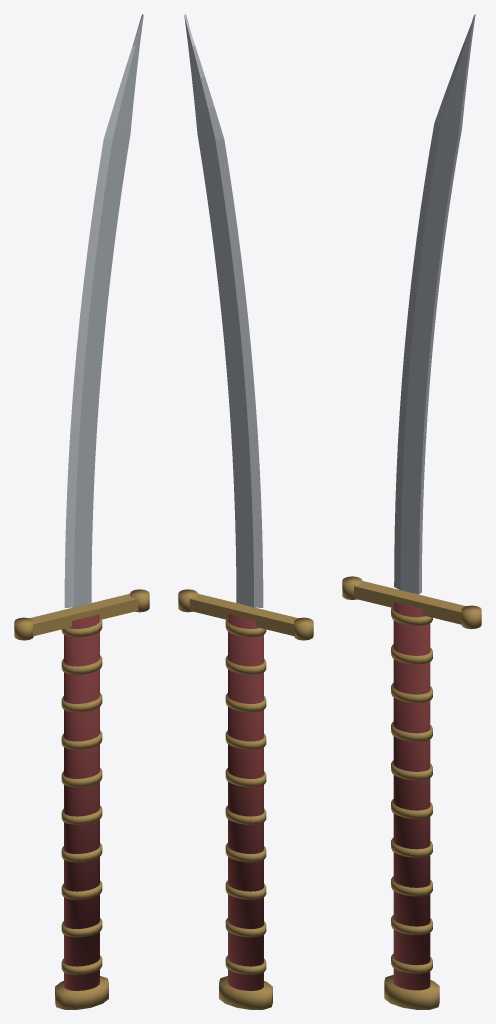
Rendered from katana-reed.fbx.
The picture shows the model from 3 angles, left to right: view 1: azimuth 30°, elevation 25°; view 2: azimuth 150°, elevation 25°; view 3: azimuth 330°, elevation 25°; orthographic projection. The views are drawn at different scales.
Parts seen in each view (by area): view 1: KatanaReedBlade, KatanaReedHandle, KatanaReedGuardBar, KatanaReedPommelCap, KatanaReedGuardCap-1, KatanaReedWrap00, KatanaReedWrap02, KatanaReedWrap06, KatanaReedWrap08, KatanaReedWrap01, KatanaReedWrap04, KatanaReedWrap03 (+3 smaller); view 2: KatanaReedBlade, KatanaReedHandle, KatanaReedGuardBar, KatanaReedPommelCap, KatanaReedGuardCap-1, KatanaReedWrap00, KatanaReedWrap02, KatanaReedWrap06, KatanaReedWrap08, KatanaReedWrap01, KatanaReedWrap04, KatanaReedWrap03 (+3 smaller); view 3: KatanaReedBlade, KatanaReedHandle, KatanaReedGuardBar, KatanaReedPommelCap, KatanaReedGuardCap1, KatanaReedWrap05, KatanaReedWrap08, KatanaReedWrap02, KatanaReedWrap00, KatanaReedWrap03, KatanaReedWrap06, KatanaReedWrap01 (+4 smaller).
Boxes of the visible parts, x1,y1,x2,y2 form: KatanaReedBlade: (64,14,143,607); KatanaReedHandle: (64,614,99,990); KatanaReedGuardBar: (30,593,138,636); KatanaReedPommelCap: (55,976,108,1009); KatanaReedGuardCap-1: (14,617,33,640); KatanaReedWrap00: (61,955,102,974); KatanaReedWrap02: (61,880,102,899); KatanaReedWrap06: (61,730,102,749); KatanaReedWrap08: (61,655,102,674); KatanaReedWrap01: (61,918,102,937); KatanaReedWrap04: (61,805,102,824); KatanaReedWrap03: (61,843,102,862); KatanaReedBlade: (184,14,263,607); KatanaReedHandle: (228,614,263,990); KatanaReedGuardBar: (189,593,297,636); KatanaReedPommelCap: (219,976,272,1009); KatanaReedGuardCap-1: (294,617,313,640); KatanaReedWrap00: (225,955,266,974); KatanaReedWrap02: (225,880,266,899); KatanaReedWrap06: (225,730,266,749); KatanaReedWrap08: (225,655,266,674); KatanaReedWrap01: (225,918,266,937); KatanaReedWrap04: (225,805,266,824); KatanaReedWrap03: (225,843,266,862); KatanaReedBlade: (394,14,475,594); KatanaReedHandle: (393,602,430,990); KatanaReedGuardBar: (354,581,465,624); KatanaReedPommelCap: (384,975,439,1009); KatanaReedGuardCap1: (461,605,481,629); KatanaReedWrap05: (391,760,432,780); KatanaReedWrap08: (391,644,432,664); KatanaReedWrap02: (391,876,432,896); KatanaReedWrap00: (391,953,432,973); KatanaReedWrap03: (391,837,432,857); KatanaReedWrap06: (391,721,432,741); KatanaReedWrap01: (391,915,432,934).
Bounding box in the file's own units: 0.152 × 1.06 × 0.0365.
